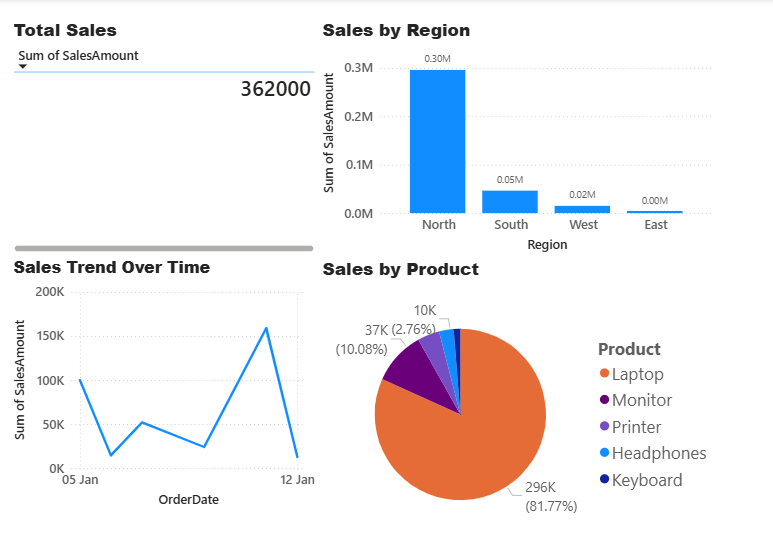

The dashboard page shown, as its layout file describes it:
{"tool":"powerbi","page":{"name":"Page 1","canvas":[1280,720],"ordinal":0},"visuals":[{"type":"lineChart","title":"Sales Trend Over Time","fields":{"Category":["cleaned_sales.OrderDate"],"Y":["Sum(cleaned_sales.SalesAmount)"]},"box":[17,325,389.3,321.3],"z":0},{"type":"tableEx","title":"Total Sales","fields":{"Values":["Sum(cleaned_sales.SalesAmount)"]},"box":[17,24.6,389.3,300.5],"z":1},{"type":"clusteredColumnChart","title":"Sales by Region","fields":{"Category":["cleaned_sales.Region"],"Y":["Sum(cleaned_sales.SalesAmount)"]},"box":[406.3,24.6,502.7,300.5],"z":2},{"type":"pieChart","title":"Sales by Product","fields":{"Category":["cleaned_sales.Product"],"Y":["Sum(cleaned_sales.SalesAmount)"]},"box":[406.3,325,502.7,368.5],"z":3}]}

Visuals, with their boxes on the page's 1280x720 design canvas (x1, y1, x2, y2). These are canvas units, not pixel positions in the 773x559 screenshot, which may show the page scaled, cropped or inside an application window:
"Sales Trend Over Time" lineChart: Rect(17, 325, 406, 646)
"Total Sales" tableEx: Rect(17, 25, 406, 325)
"Sales by Region" clusteredColumnChart: Rect(406, 25, 909, 325)
"Sales by Product" pieChart: Rect(406, 325, 909, 694)
